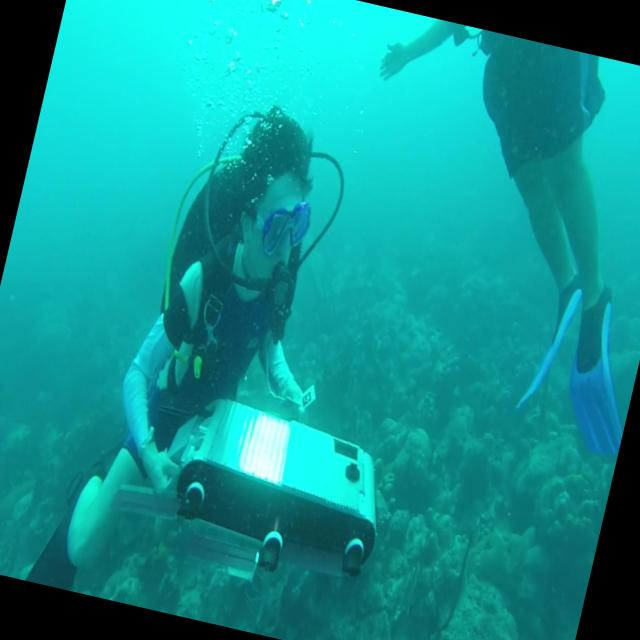human: (23, 72, 376, 634), (303, 8, 640, 463)
